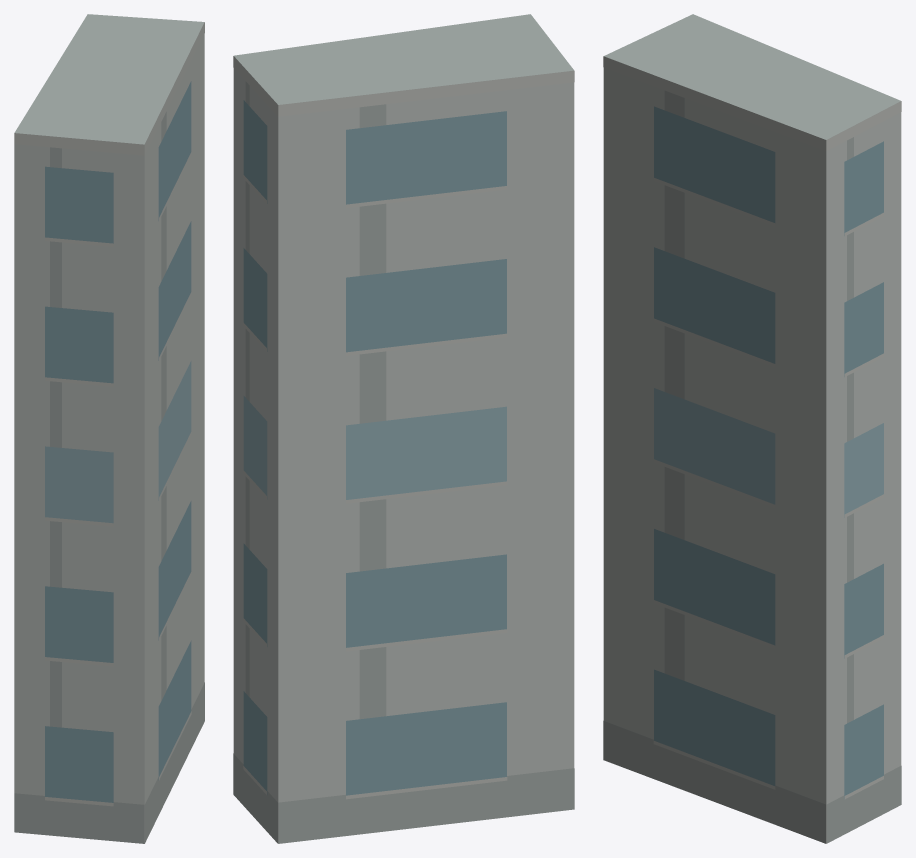
The model's file is survey-upis-32594021.glb.
The picture shows the model from 3 angles, left to right: view 1: azimuth 30°, elevation 25°; view 2: azimuth 150°, elevation 25°; view 3: azimuth 270°, elevation 25°; orthographic projection. The views are drawn at different scales.
Parts seen in each view (by area): view 1: survey-upis-32594021.tmp; view 2: survey-upis-32594021.tmp; view 3: survey-upis-32594021.tmp.
Boxes of the visible parts, x1,y1,x2,y2 form: survey-upis-32594021.tmp: (14, 14, 204, 843); survey-upis-32594021.tmp: (233, 14, 574, 843); survey-upis-32594021.tmp: (603, 14, 901, 843).
Size of the model in its own units: 5.86 by 15.25 by 5.86.
